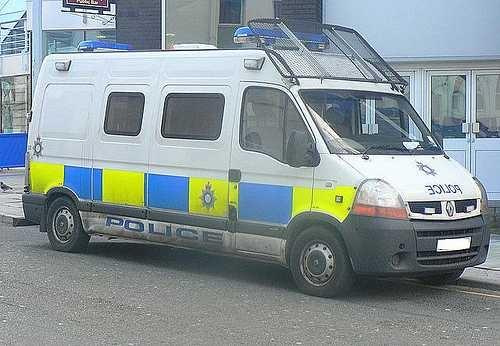Police Van: (27, 16, 482, 292)
